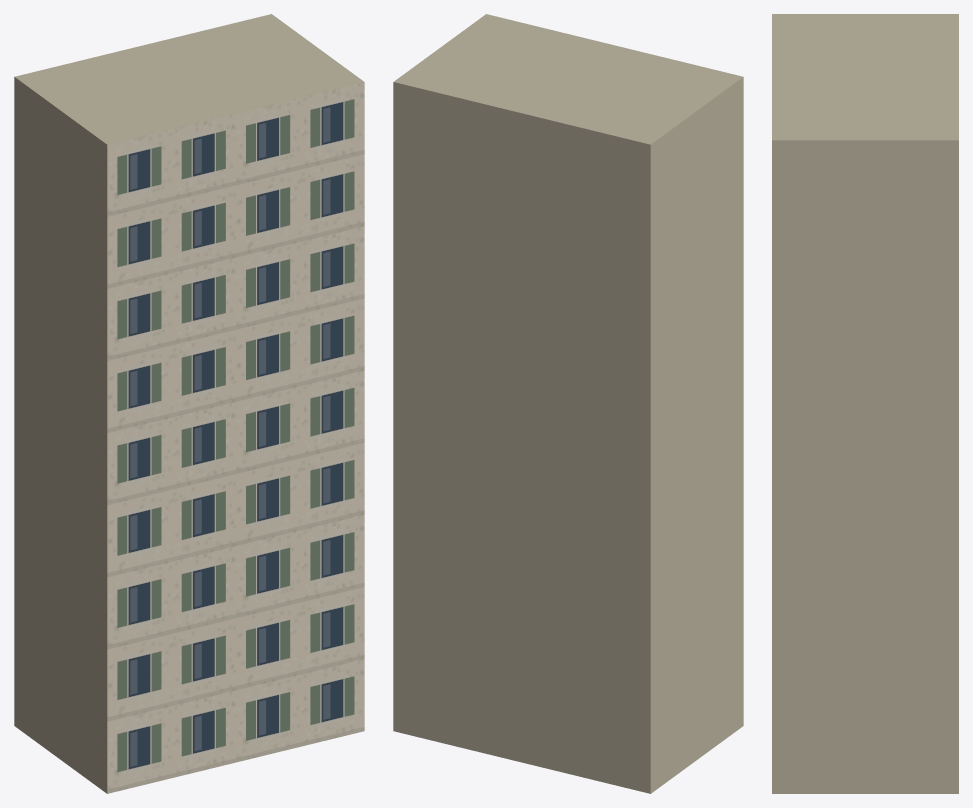
File: monaco-predio-ponto.glb
3 views of the same model, side by side, from view 1: azimuth 30°, elevation 25°; view 2: azimuth 150°, elevation 25°; view 3: azimuth 270°, elevation 25° (orthographic).
Parts seen in each view (by area): view 1: monaco-predio-ponto; view 2: monaco-predio-ponto; view 3: monaco-predio-ponto.
Part boxes in pixels (<box>): monaco-predio-ponto: <box>14,14,364,793</box>; monaco-predio-ponto: <box>393,14,743,793</box>; monaco-predio-ponto: <box>772,14,958,793</box>.
Bounding box in the file's own units: 13.33 × 32.15 × 8.33.
6 materials, 1 textured.
